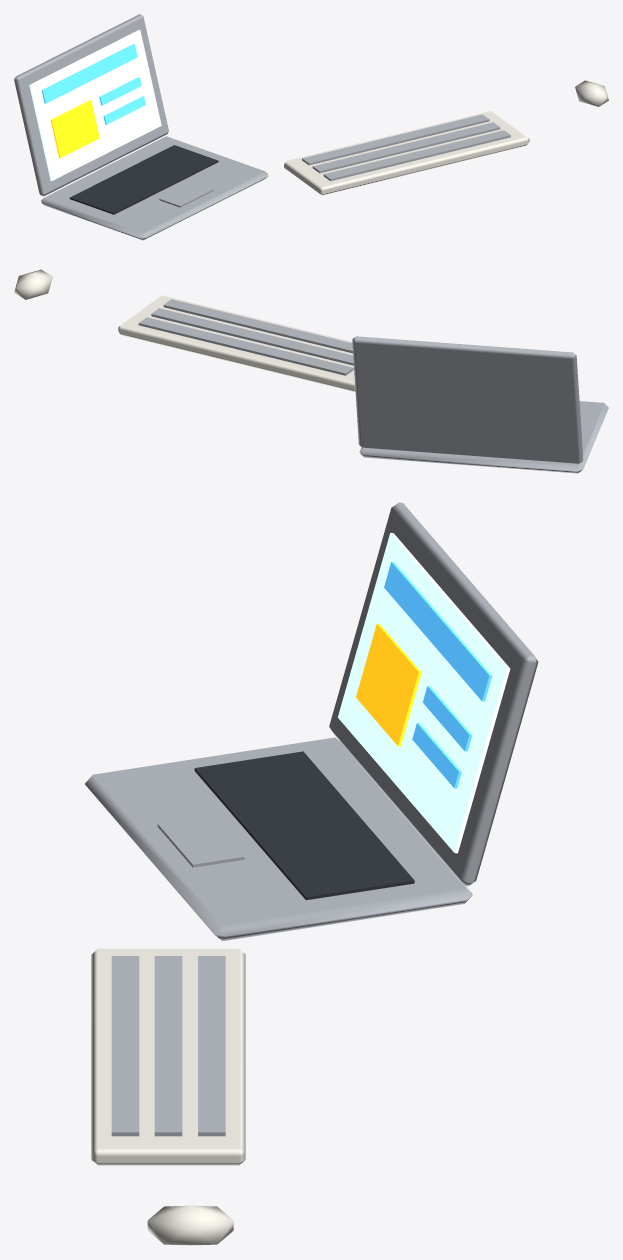
Rendered from station_processing_ausstattung_2_2.glb.
3 renders of one model, top to bottom at view 1: azimuth 30°, elevation 25°; view 2: azimuth 150°, elevation 25°; view 3: azimuth 270°, elevation 25°, orthographic. The views are drawn at different scales.
Visible parts, largest first — view 1: station_processing_ausstattung_2_2; view 2: station_processing_ausstattung_2_2; view 3: station_processing_ausstattung_2_2.
Part boxes in pixels (x1,y1,x2,y2): station_processing_ausstattung_2_2: (14, 14, 608, 240); station_processing_ausstattung_2_2: (14, 269, 608, 473); station_processing_ausstattung_2_2: (85, 502, 538, 1245).
Size of the model in its own units: 1.13 by 0.2404 by 0.4119.
